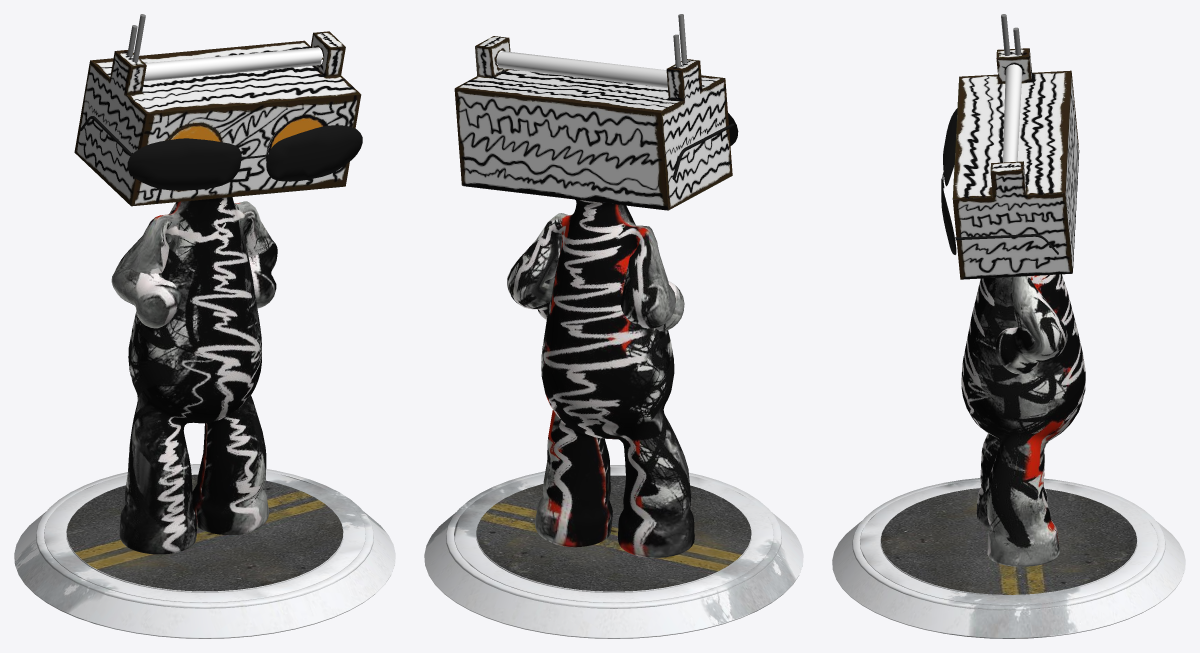
3 views of the same model, side by side, from view 1: azimuth 30°, elevation 25°; view 2: azimuth 150°, elevation 25°; view 3: azimuth 270°, elevation 25° (orthographic). The views are drawn at different scales.
Size of the model in its own units: 1.45 by 2.35 by 1.45.
6 materials, 4 textured.
